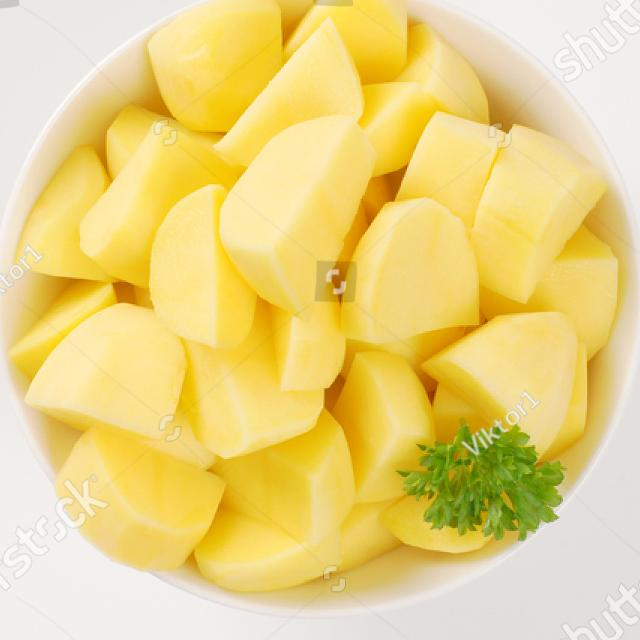potato: (47, 11, 585, 425)
